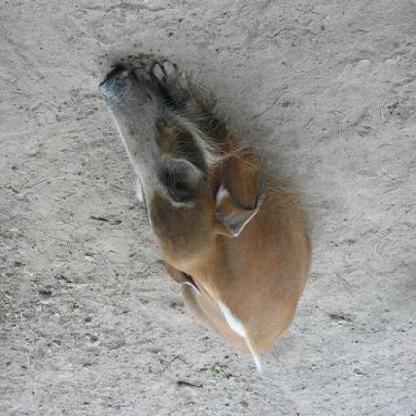boar: (86, 20, 354, 385)
